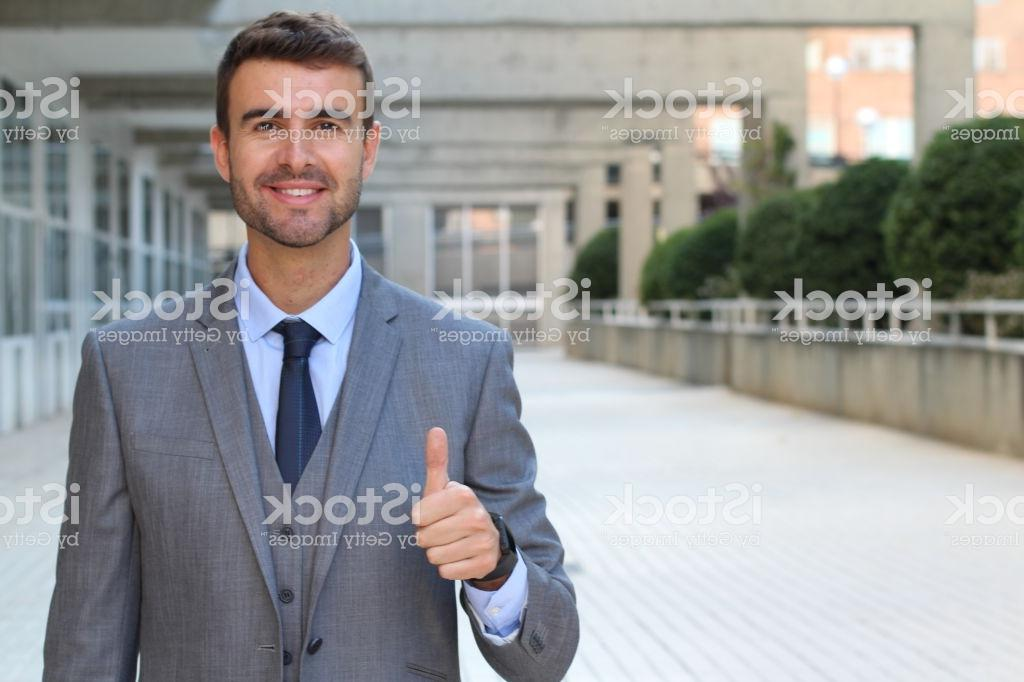thumbsup: (409, 425, 502, 584)
